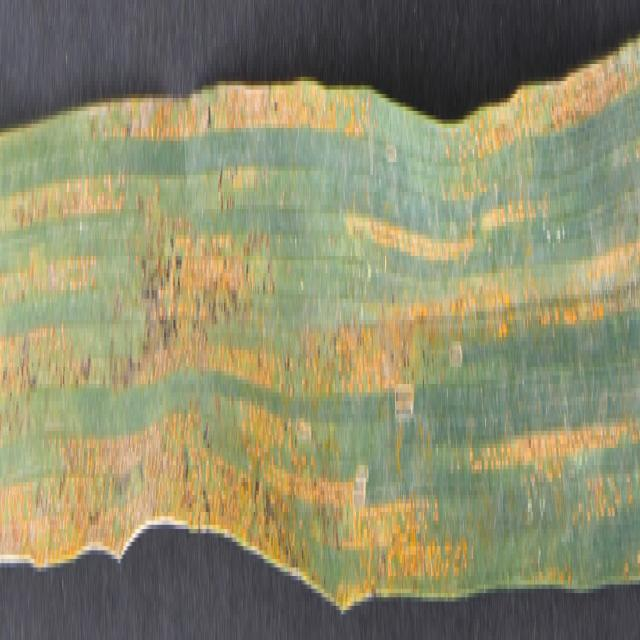leaf rust: (0, 43, 640, 606)
